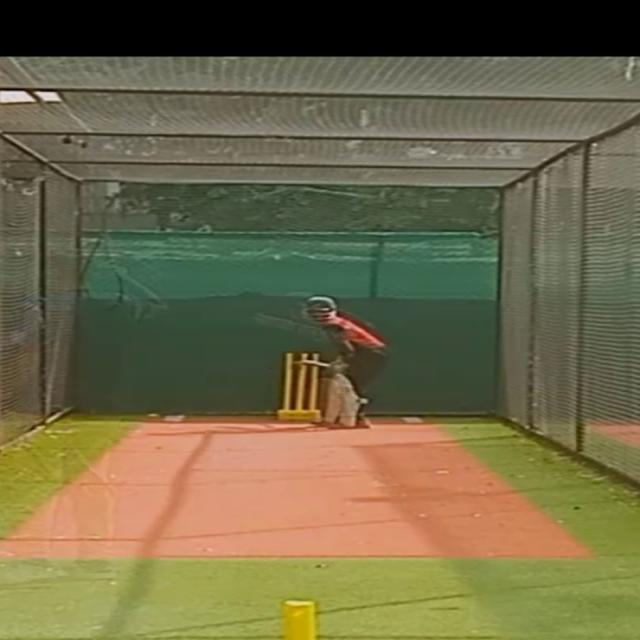stump: (274, 350, 321, 422)
